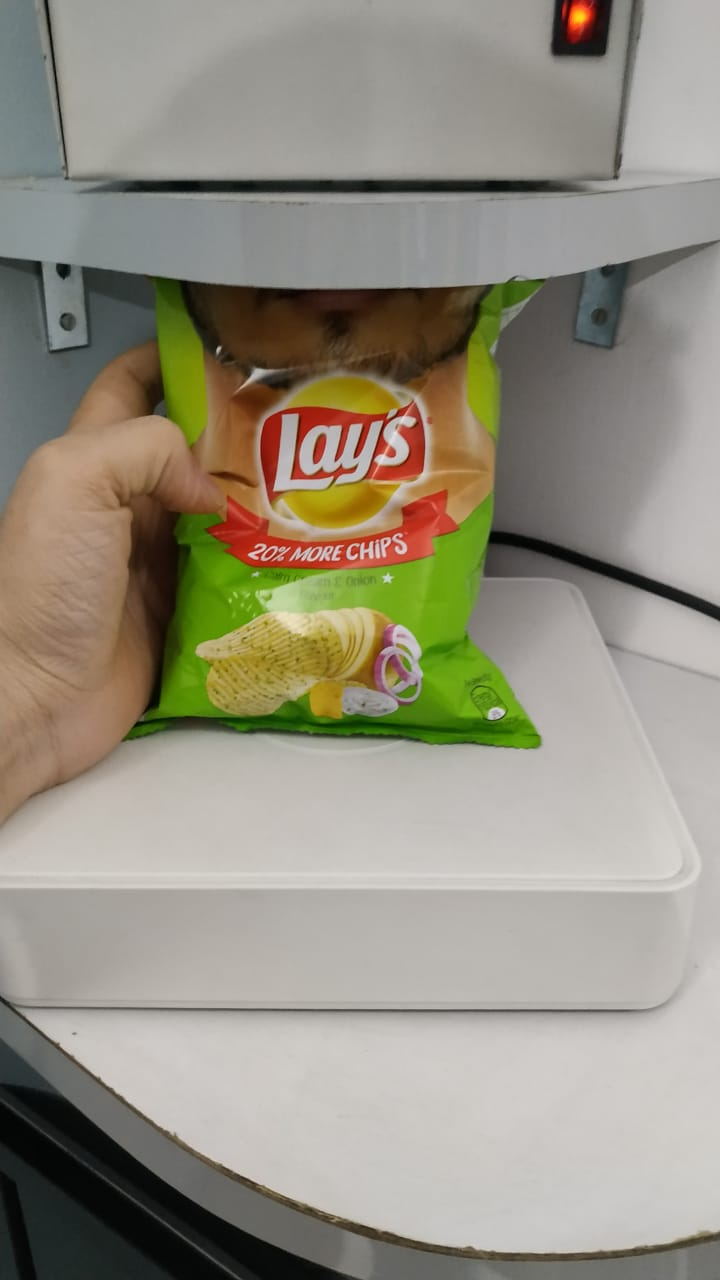lays chips: (135, 282, 548, 759)
